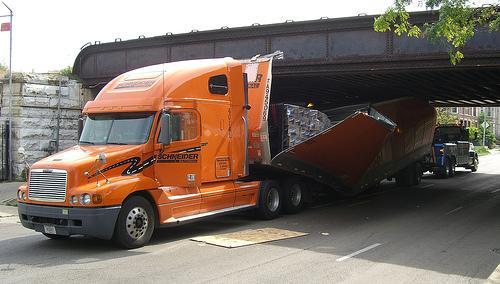truck: (16, 51, 439, 248)
